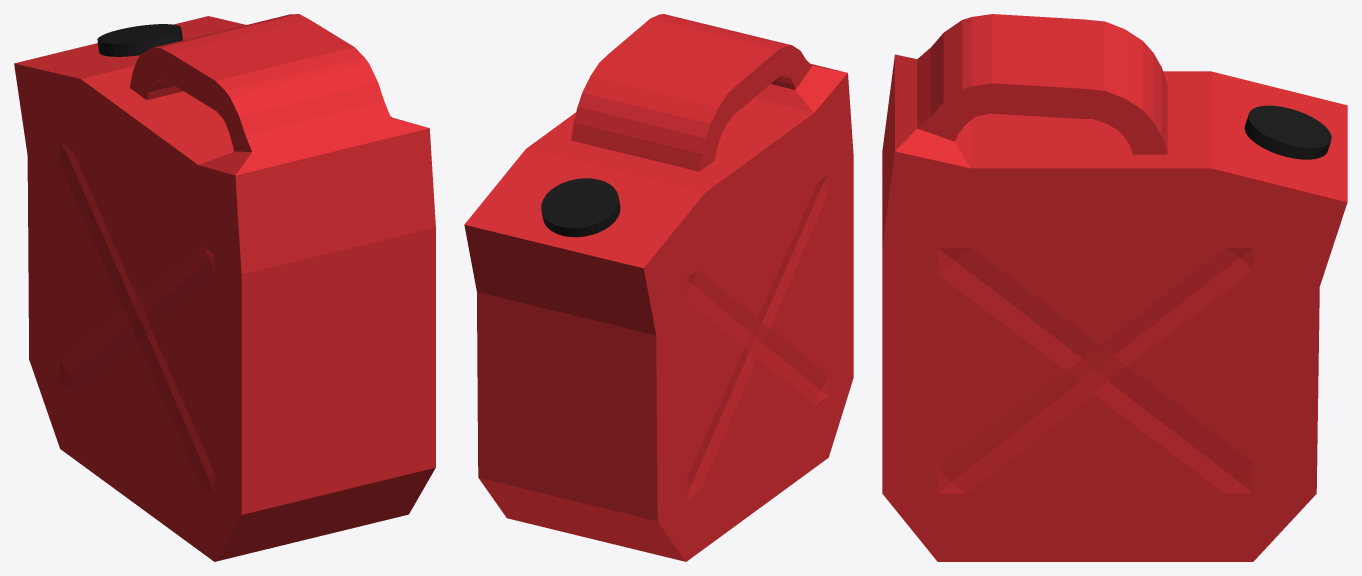
File: jerrycan.fbx
The picture shows the model from 3 angles, left to right: view 1: azimuth 30°, elevation 25°; view 2: azimuth 150°, elevation 25°; view 3: azimuth 270°, elevation 25°; orthographic projection. The views are drawn at different scales.
Visible parts, largest first — view 1: Cube, Cylinder; view 2: Cube, Cylinder; view 3: Cube, Cylinder.
Boxes of the visible parts, bbox=[...] form: Cube: bbox=[14, 14, 435, 561]; Cylinder: bbox=[97, 24, 182, 56]; Cube: bbox=[464, 14, 853, 561]; Cylinder: bbox=[541, 178, 620, 237]; Cube: bbox=[882, 14, 1347, 561]; Cylinder: bbox=[1244, 105, 1331, 159].
Bounding box in the file's own units: 42.26 × 94.47 × 85.68.
